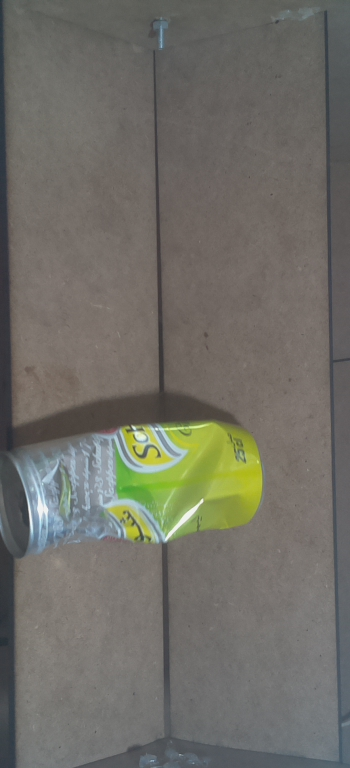Canette: (1, 408, 271, 569)
